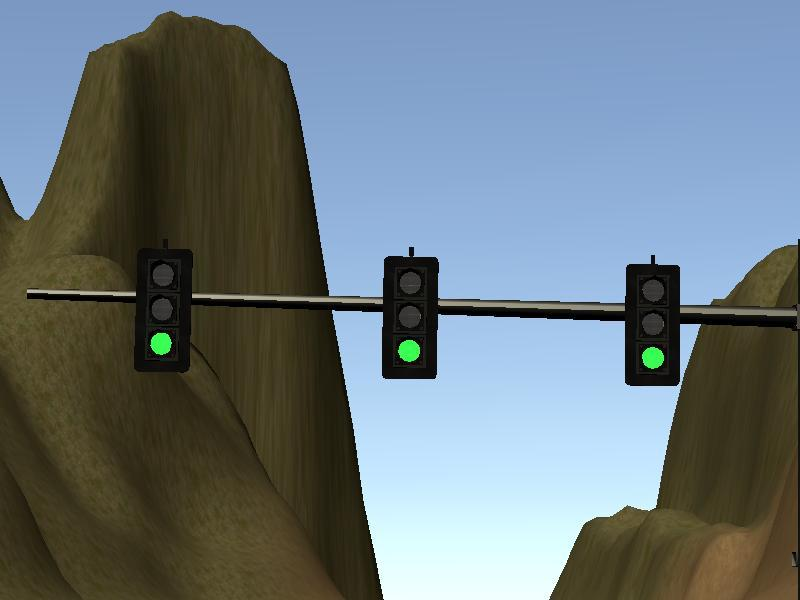Green: (135, 248, 192, 371), (624, 264, 681, 387), (382, 256, 439, 379)
